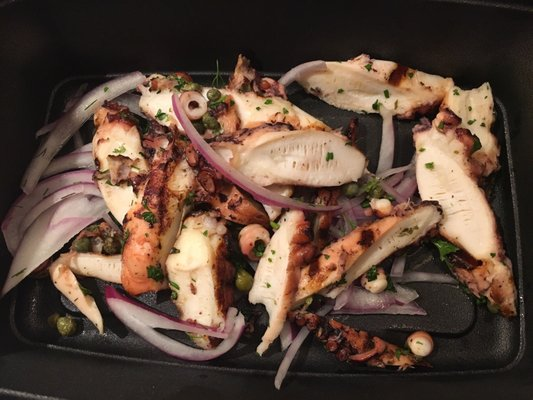soup: (273, 55, 521, 373)
